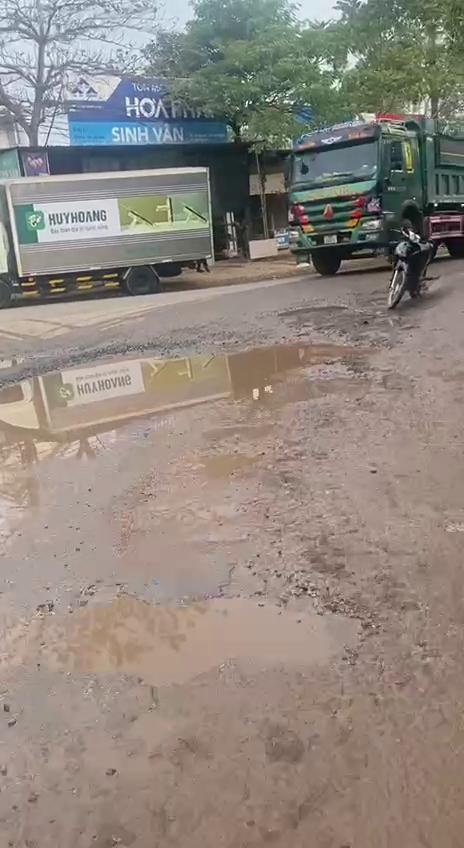pothole: (0, 306, 400, 564), (0, 574, 384, 696)
